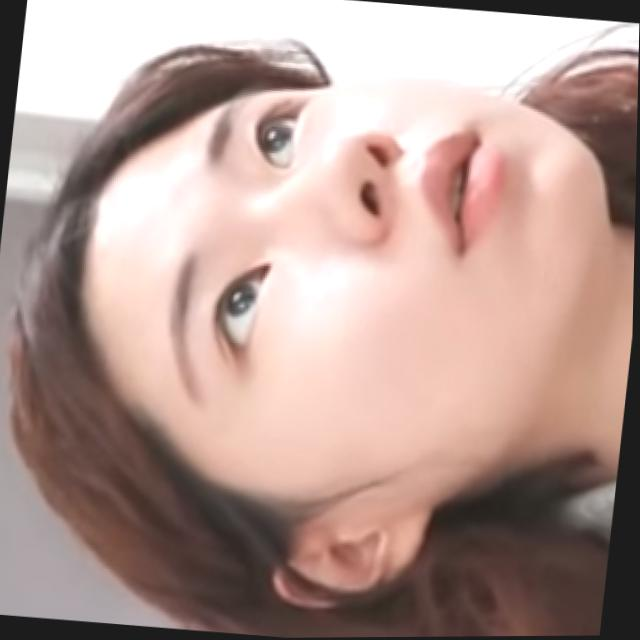face: (42, 36, 638, 516)
